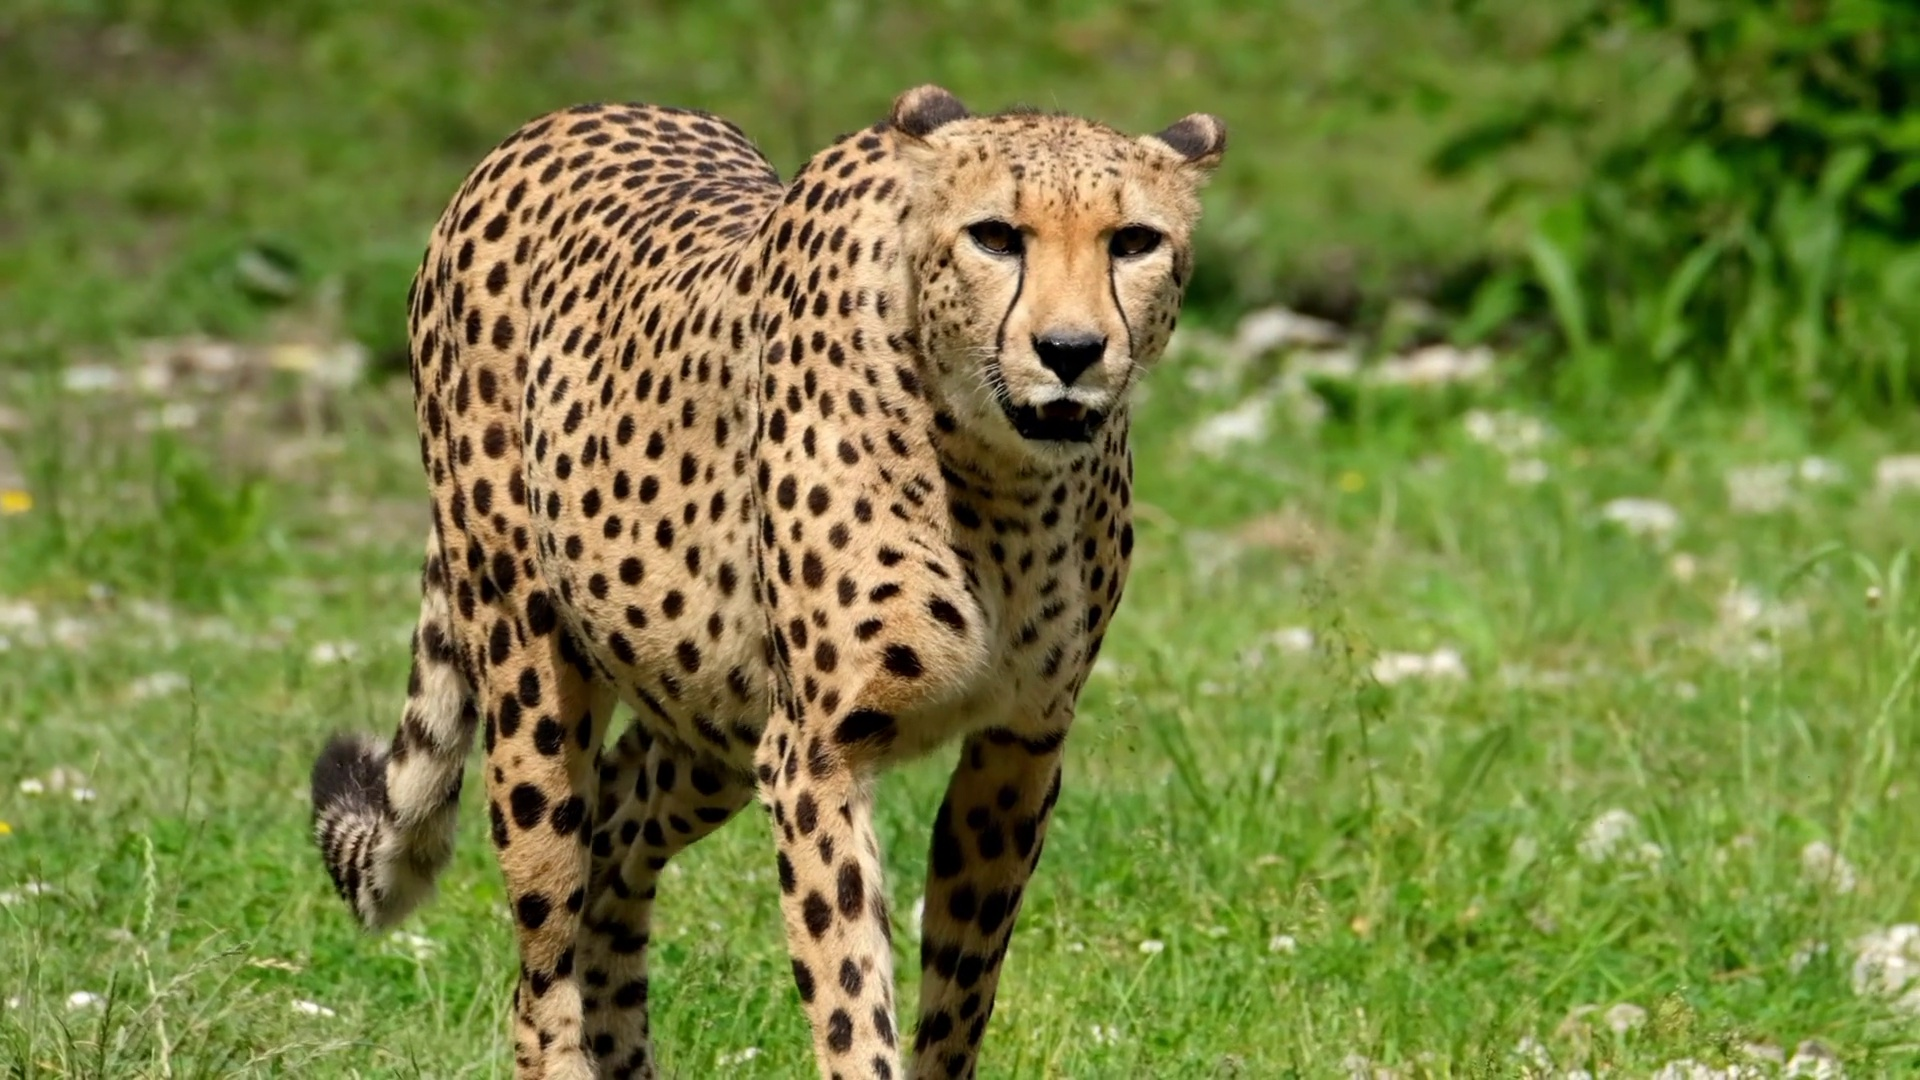Cheetah: (302, 79, 1226, 1080)
